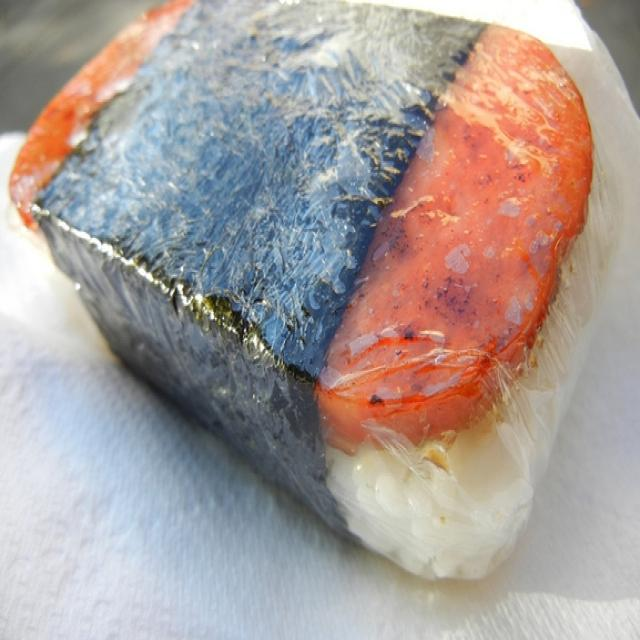寿司卷物: (8, 4, 628, 610)
